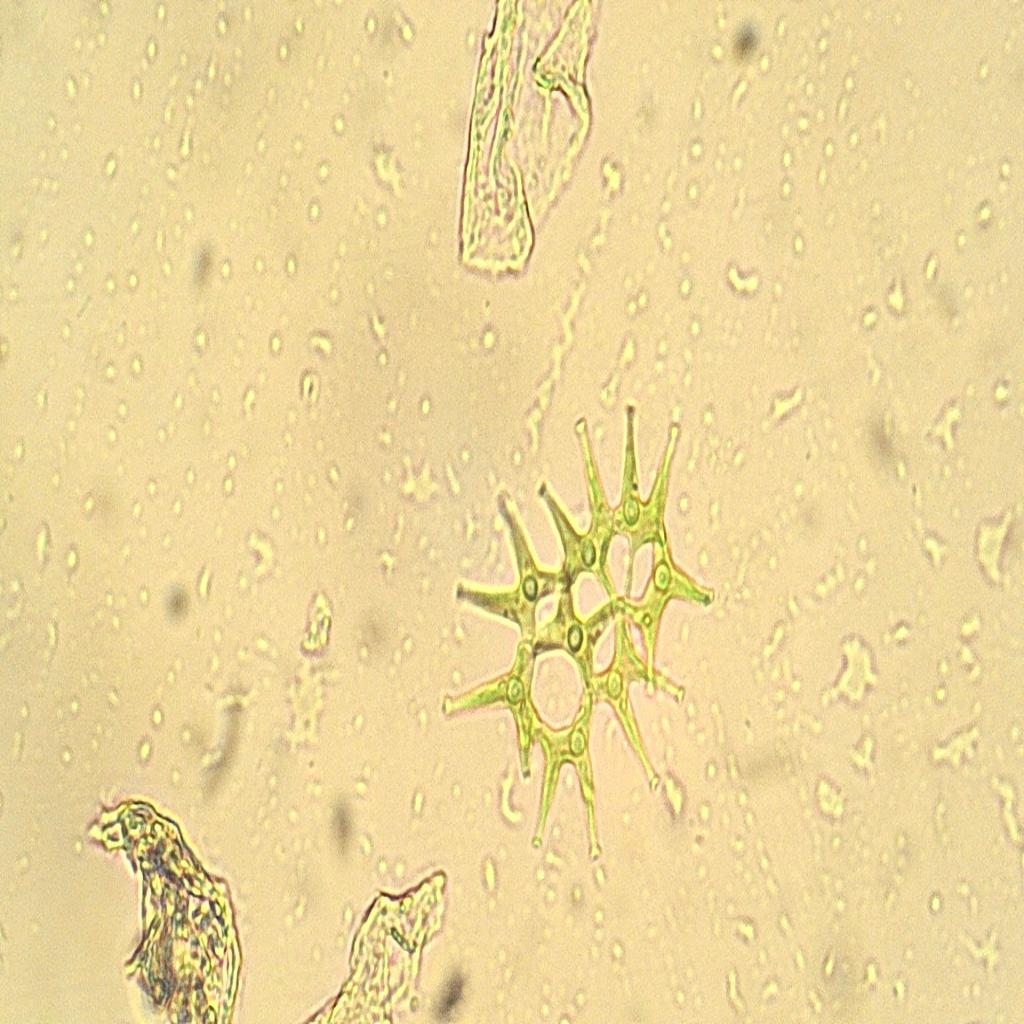Pediastrum_CFI: (431, 360, 730, 900)
